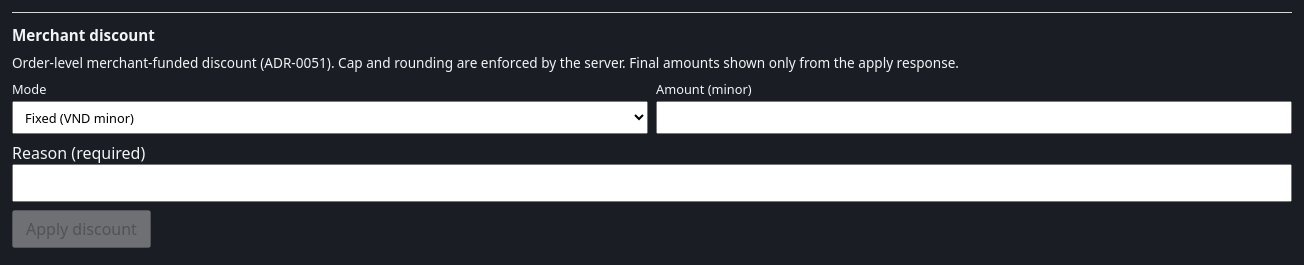
MerchantDiscountPanel › applies FIXED_MINOR and shows server net merchandise
This screenshot has width=1304, height=265.
Type "10000" into the field with test id "merchant-discount-amount" at (974, 118), box [656,101,1292,134]
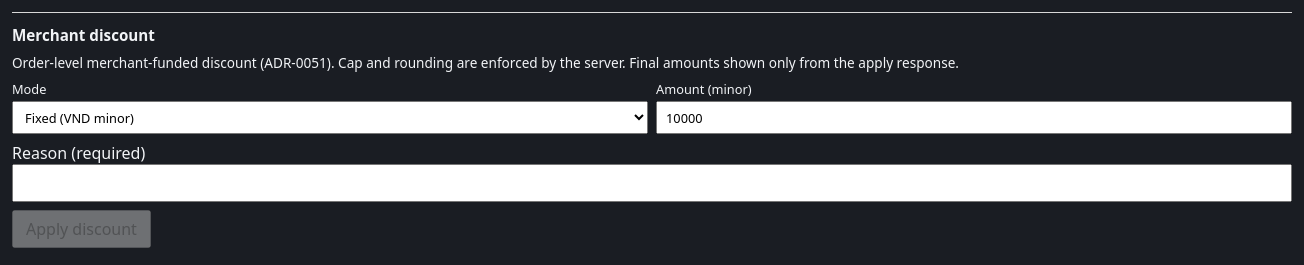
Type "Regular guest" into the field with test id "merchant-discount-reason" at (652, 183), box [12,164,1292,202]
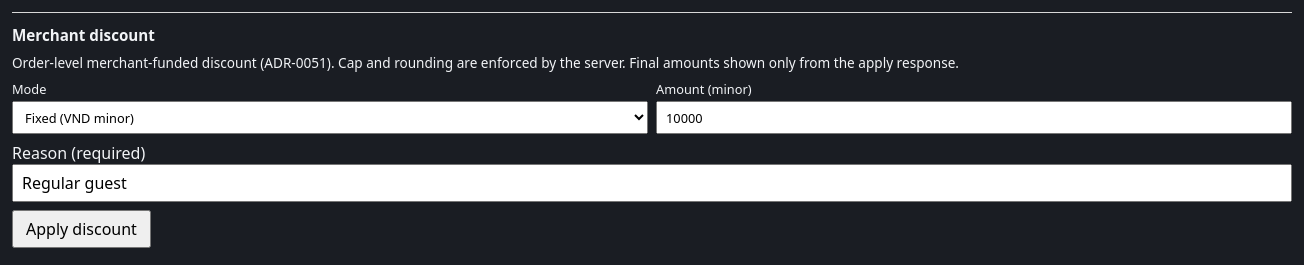
Click the button with test id "merchant-discount-apply" at (81, 229), box [12,210,151,248]
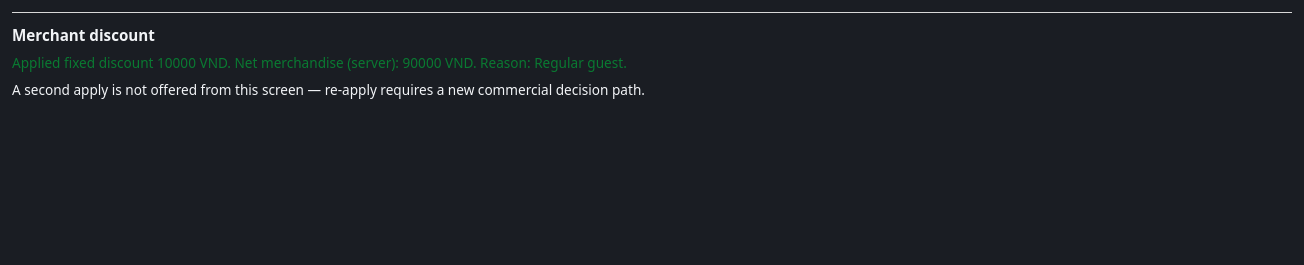
expect the text with test id "merchant-discount-result" shows "90000": met, box [403,53,442,72]
expect the text with test id "merchant-discount-result" shows "10000": met, box [157,53,196,72]
